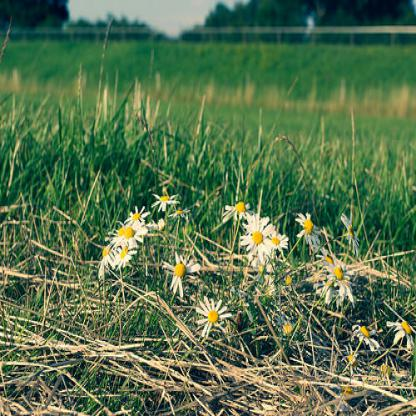ASTER: (75, 125, 415, 380)
